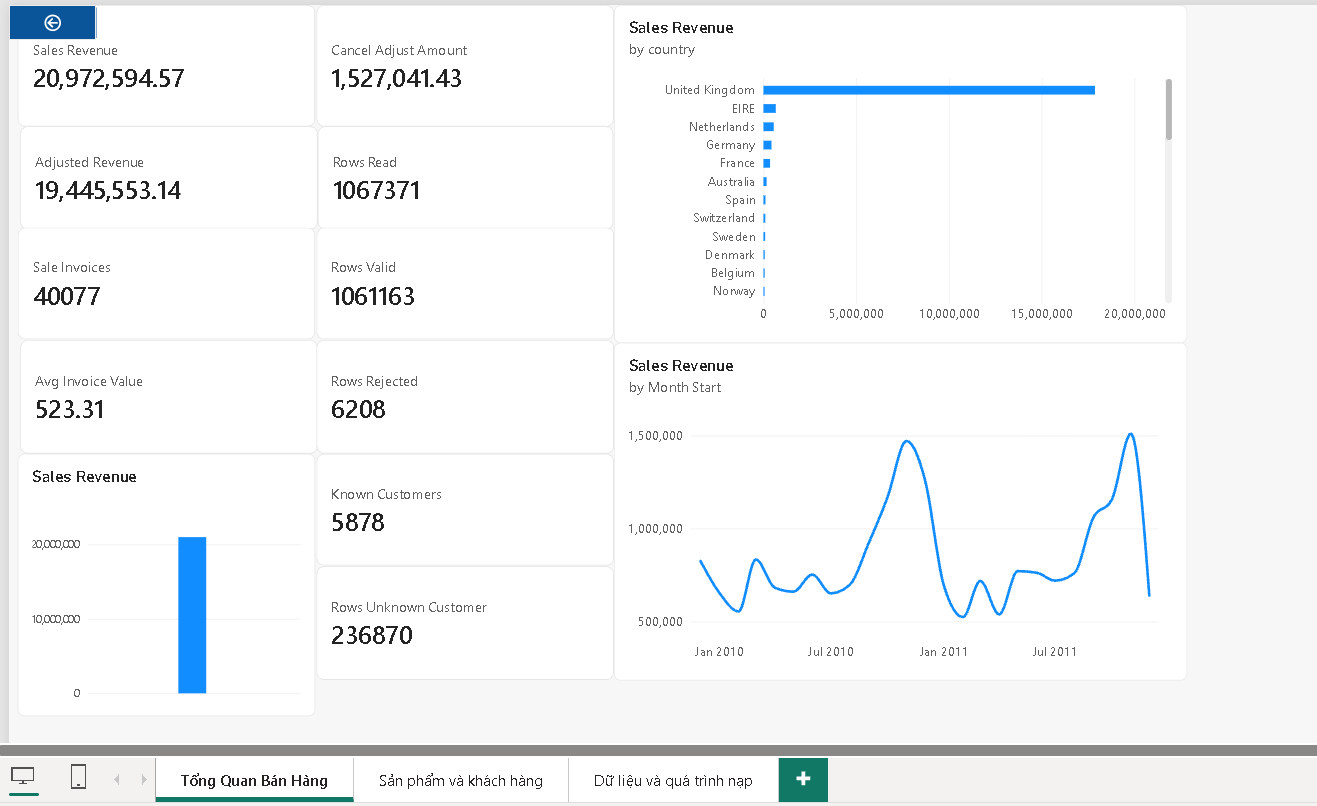

Layout of this report page (visuals, bound fields, positions):
{"tool":"powerbi","page":{"name":"Tổng Quan Bán Hàng","canvas":[1920,1080],"ordinal":0},"visuals":[{"type":"cardVisual","fields":{"Data":["fact_sales.Sales Revenue","fact_sales.Sales Revenue"]},"box":[10.6,0,340.1,139.2],"z":0},{"type":"actionButton","box":[0,0,100,40],"z":1000},{"type":"clusteredColumnChart","fields":{"Y":["fact_sales.Sales Revenue"]},"box":[10.6,512.9,340.1,299.6],"z":2000},{"type":"cardVisual","fields":{"Data":["dim_country.Adjusted Revenue"]},"box":[12.3,139.2,340.1,118.1],"z":3000},{"type":"cardVisual","fields":{"Data":["dim_country.Cancel Adjust Amount"]},"box":[350.7,0,340.1,139.2],"z":4000},{"type":"cardVisual","fields":{"Data":["dim_country.Sale Invoices"]},"box":[10.6,253.8,340.1,128.7],"z":5000},{"type":"cardVisual","fields":{"Data":["dim_country.Avg Invoice Value"]},"box":[12.3,382.4,340.1,130.4],"z":6000},{"type":"cardVisual","fields":{"Data":["dim_country.Known Customers"]},"box":[350.7,512.9,340.1,128.7],"z":7000},{"type":"cardVisual","fields":{"Data":["dim_country.Rows Unknown Customer"]},"box":[350.7,641.5,340.1,130.4],"z":8000},{"type":"cardVisual","fields":{"Data":["dim_country.Rows Read"]},"box":[352.5,139.2,338.4,118.1],"z":9000},{"type":"cardVisual","fields":{"Data":["dim_country.Rows Valid"]},"box":[350.7,253.8,340.1,128.7],"z":10000},{"type":"cardVisual","fields":{"Data":["dim_country.Rows Rejected"]},"box":[351.2,382.5,340,130],"z":11000},{"type":"lineChart","fields":{"Category":["dim_date.Month Start"],"Y":["fact_sales.Sales Revenue"]},"box":[691.2,386.2,655,386.2],"z":12000},{"type":"clusteredBarChart","fields":{"Category":["dim_country.country"],"Y":["fact_sales.Sales Revenue"]},"box":[691.2,0,655,386.2],"z":13000}]}

Visuals, with their boxes on the page's 1920x1080 design canvas (x1, y1, x2, y2). These are canvas units, not pixel positions in the 1317x806 screenshot, which may show the page scaled, cropped or inside an application window:
cardVisual - fact_sales.Sales Revenue x fact_sales.Sales Revenue: Rect(11, 0, 351, 139)
actionButton: Rect(0, 0, 100, 40)
clusteredColumnChart - fact_sales.Sales Revenue: Rect(11, 513, 351, 812)
cardVisual - dim_country.Adjusted Revenue: Rect(12, 139, 352, 257)
cardVisual - dim_country.Cancel Adjust Amount: Rect(351, 0, 691, 139)
cardVisual - dim_country.Sale Invoices: Rect(11, 254, 351, 382)
cardVisual - dim_country.Avg Invoice Value: Rect(12, 382, 352, 513)
cardVisual - dim_country.Known Customers: Rect(351, 513, 691, 642)
cardVisual - dim_country.Rows Unknown Customer: Rect(351, 642, 691, 772)
cardVisual - dim_country.Rows Read: Rect(352, 139, 691, 257)
cardVisual - dim_country.Rows Valid: Rect(351, 254, 691, 382)
cardVisual - dim_country.Rows Rejected: Rect(351, 382, 691, 512)
lineChart - dim_date.Month Start x fact_sales.Sales Revenue: Rect(691, 386, 1346, 772)
clusteredBarChart - dim_country.country x fact_sales.Sales Revenue: Rect(691, 0, 1346, 386)
